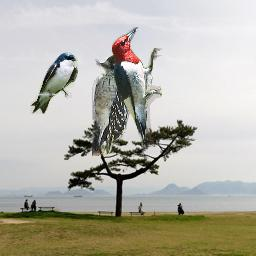Swallow: (30, 52, 78, 114)
Woodpecker: (111, 27, 162, 147), (92, 53, 134, 156)
